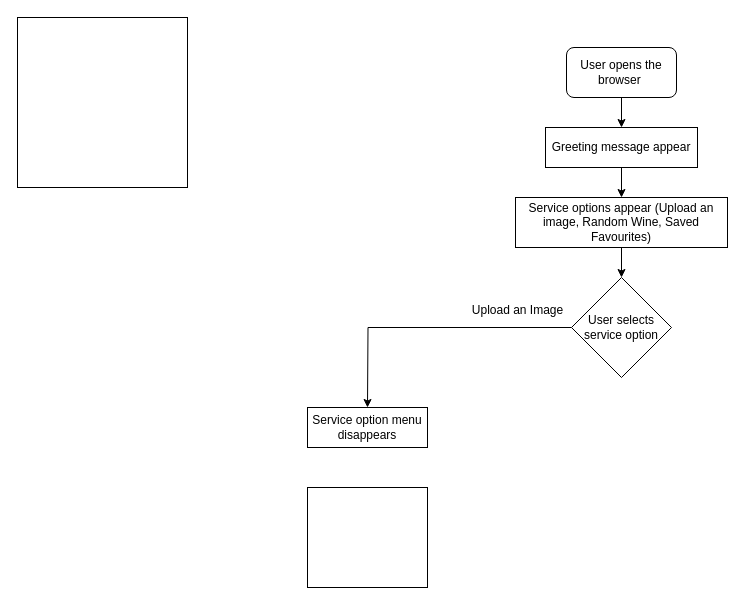
The diagram is 745 pixels wide and 605 high, and some of its shapes have lost their labels. The shapes that lost their labels are listed below. From the top down, each one's box as (x1, y1, x2, y2) in pixels, then its label:
(16, 16, 188, 188): Assets Logo
(306, 486, 428, 588): Load in image upload function and accompanying
